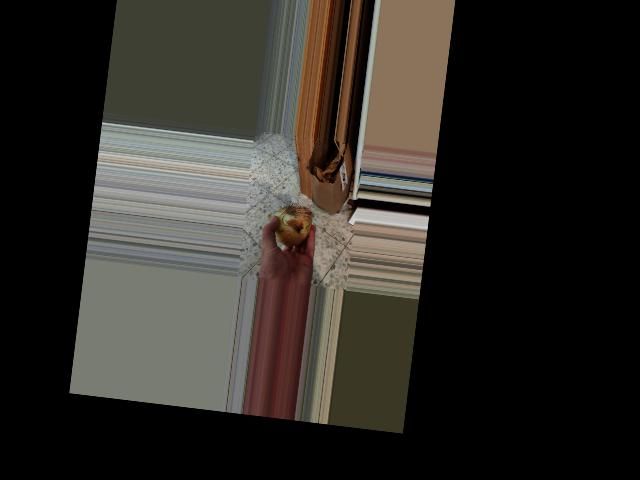onion: (263, 200, 314, 253)
